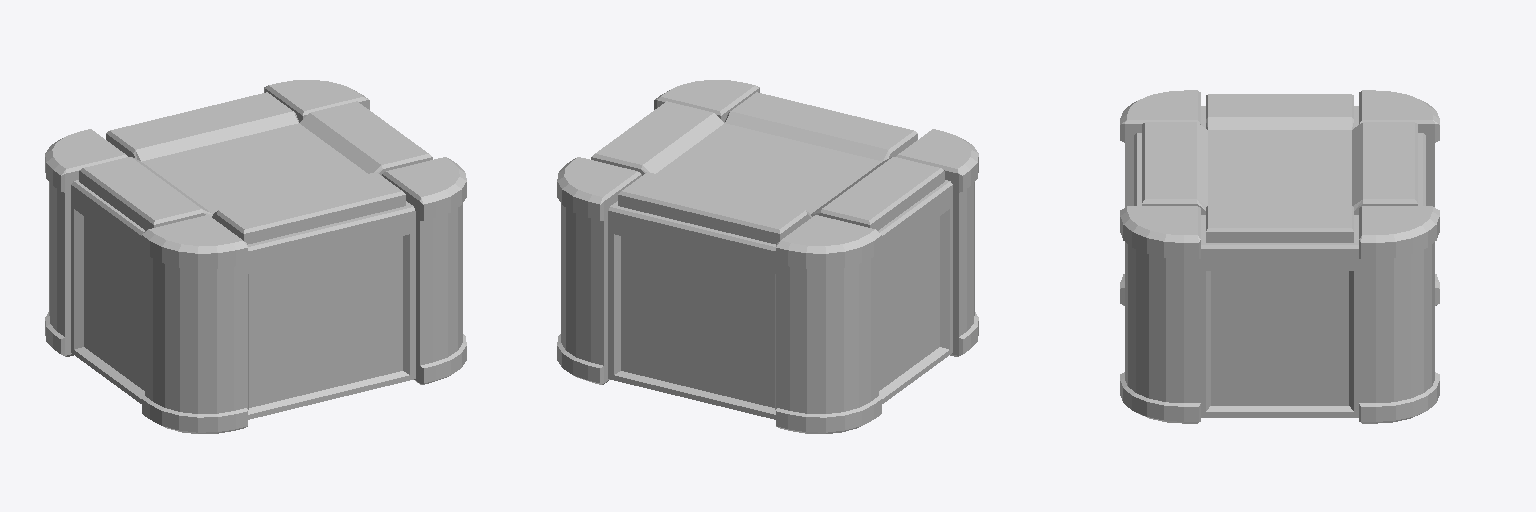
The model's file is AmmoBoxMega.obj.
3 views of the same model, side by side, from view 1: azimuth 30°, elevation 25°; view 2: azimuth 150°, elevation 25°; view 3: azimuth 270°, elevation 25° (orthographic).
Parts seen in each view (by area): view 1: Cube.034_Cube.047; view 2: Cube.034_Cube.047; view 3: Cube.034_Cube.047.
Boxes of the visible parts, x1,y1,x2,y2 form: Cube.034_Cube.047: [45, 80, 466, 433]; Cube.034_Cube.047: [557, 80, 978, 433]; Cube.034_Cube.047: [1120, 90, 1439, 423].
Size of the model in its own units: 1.56 by 0.9153 by 1.39.